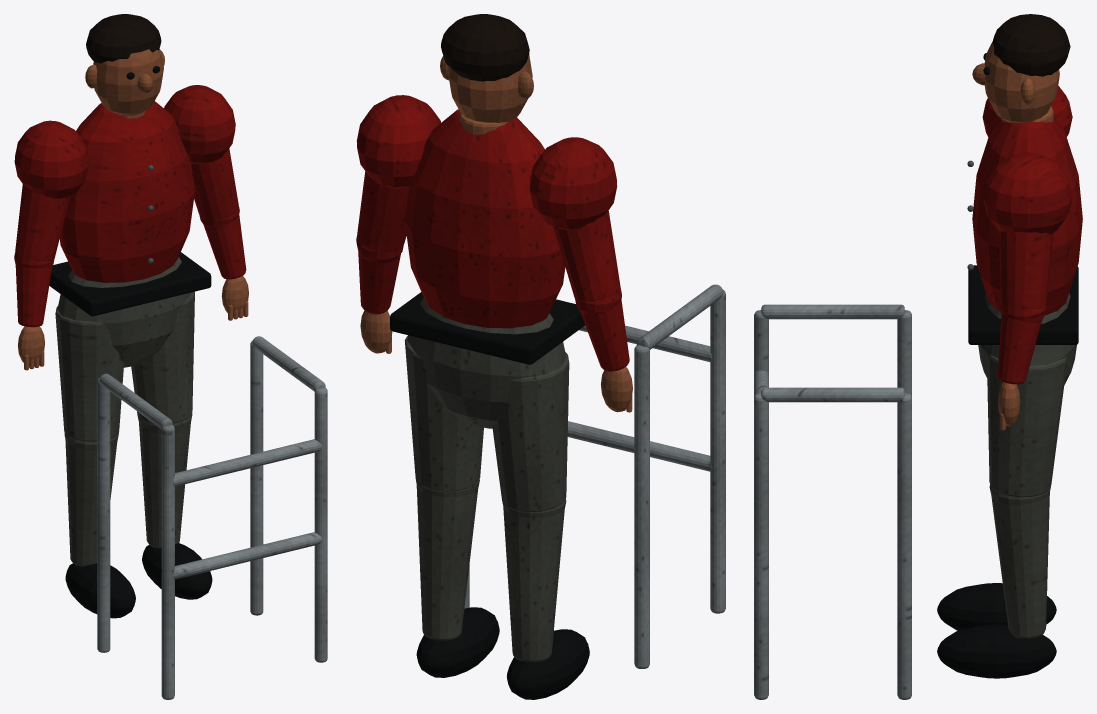
File: PROP-F42FE027C62A_lod0.glb
3 renders of one model, left to right at view 1: azimuth 30°, elevation 25°; view 2: azimuth 150°, elevation 25°; view 3: azimuth 270°, elevation 25°, orthographic. The views are drawn at different scales.
Visible parts, largest first — view 1: torso.048, walker_legs, thigh.047, shoulder.048, calf.047, upper_arm.048, pelvis.047, belt.047, walker_brace, shoe.047, forearm.048, head.047 (+6 smaller); view 2: torso.048, thigh.047, calf.047, shoulder.048, walker_legs, pelvis.047, upper_arm.048, shoe.047, belt.047, hair_cap.047, forearm.048, walker_brace (+5 smaller); view 3: walker_legs, torso.048, thigh.047, shoe.047, shoulder.048, calf.047, walker_handle, upper_arm.048, hair_cap.047, belt.047, head.047, forearm.048 (+4 smaller).
Part boxes in pixels (box(x1,y1,x2,y2)): torso.048: box(59, 101, 194, 282); walker_legs: box(97, 340, 327, 699); thigh.047: box(55, 291, 194, 441); shoulder.048: box(14, 85, 235, 198); calf.047: box(65, 423, 190, 566); upper_arm.048: box(15, 148, 238, 261); pelvis.047: box(57, 257, 191, 367); belt.047: box(49, 252, 211, 316); walker_brace: box(173, 439, 322, 579); shoe.047: box(65, 543, 212, 618); forearm.048: box(15, 215, 246, 327); head.047: box(93, 49, 163, 115); torso.048: box(404, 109, 565, 328); thigh.047: box(404, 335, 569, 512); calf.047: box(416, 485, 564, 662); shoulder.048: box(356, 95, 617, 229); walker_legs: box(464, 289, 725, 668); pelvis.047: box(407, 297, 566, 428); upper_arm.048: box(357, 171, 620, 301); shoe.047: box(416, 607, 589, 699); belt.047: box(390, 292, 584, 364); hair_cap.047: box(441, 14, 529, 81); forearm.048: box(358, 252, 629, 371); walker_brace: box(567, 325, 712, 471); walker_legs: box(754, 310, 911, 699); torso.048: box(972, 116, 1082, 315); thigh.047: box(987, 354, 1066, 497); shoe.047: box(937, 583, 1056, 678); shoulder.048: box(982, 86, 1072, 233); calf.047: box(991, 492, 1049, 638); walker_handle: box(761, 304, 904, 402); upper_arm.048: box(998, 231, 1053, 309); hair_cap.047: box(992, 14, 1070, 76); belt.047: box(968, 265, 1078, 344); head.047: box(984, 42, 1059, 122); forearm.048: box(997, 312, 1041, 384).
Size of the model in its own units: 0.7175 by 1.72 by 0.803.
7 materials, 7 textured.
